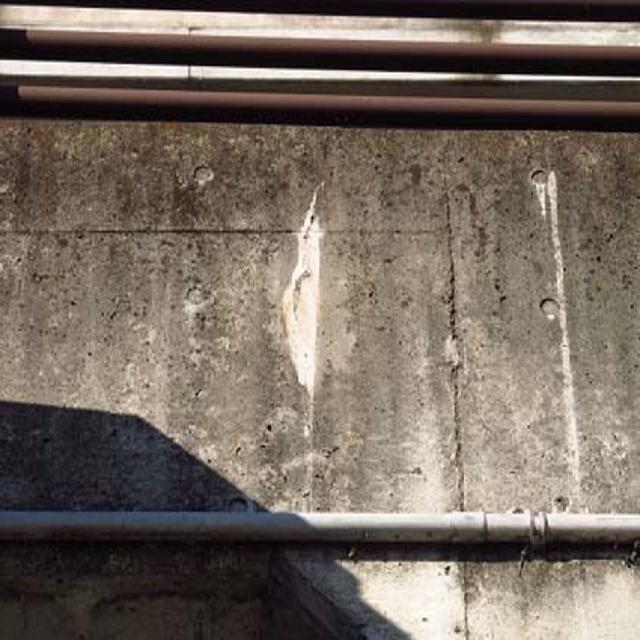freelime: (524, 166, 586, 488), (261, 193, 330, 424)
